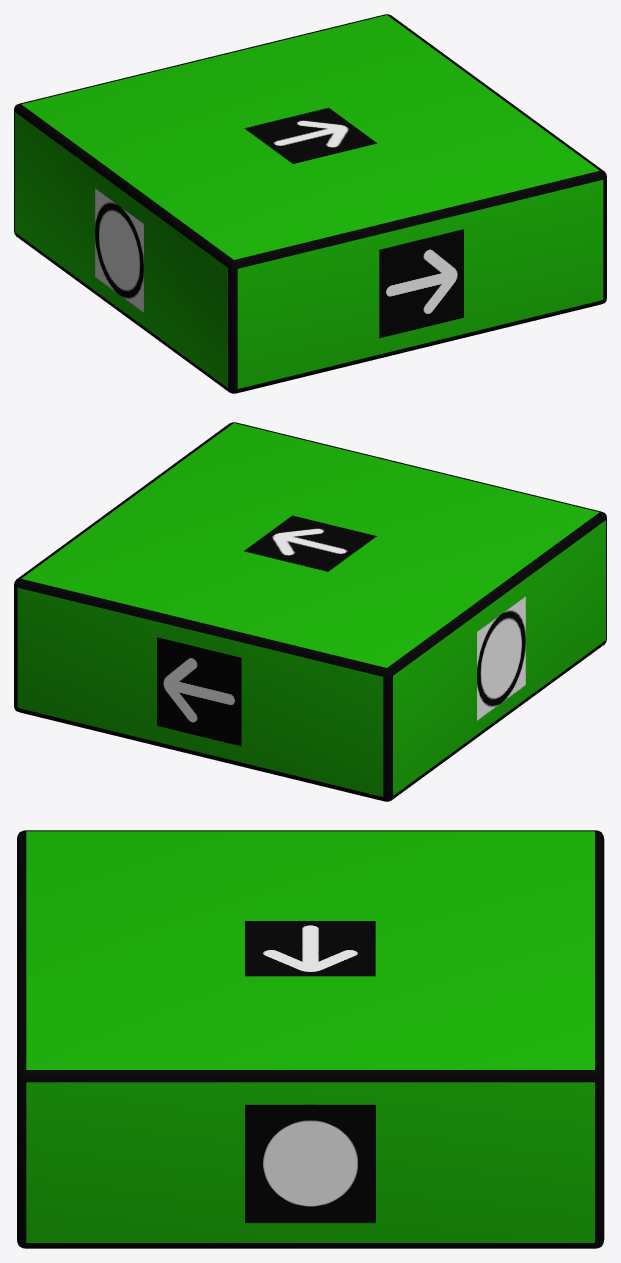
The model's file is BigBoxTapFlowBox_3_1_3_Line.fbx.
The picture shows the model from 3 angles, top to bottom: view 1: azimuth 30°, elevation 25°; view 2: azimuth 150°, elevation 25°; view 3: azimuth 270°, elevation 25°; orthographic projection. The views are drawn at different scales.
Parts seen in each view (by area): view 1: Box_3_1_3FlowBox_3_1_3; view 2: Box_3_1_3FlowBox_3_1_3; view 3: Box_3_1_3FlowBox_3_1_3.
Boxes of the visible parts, x1,y1,x2,y2 form: Box_3_1_3FlowBox_3_1_3: (14, 14, 606, 393); Box_3_1_3FlowBox_3_1_3: (14, 422, 606, 801); Box_3_1_3FlowBox_3_1_3: (17, 830, 604, 1248).
Size of the model in its own units: 3.15 by 1.07 by 3.17.
Materials: 1 (1 with a texture image).
